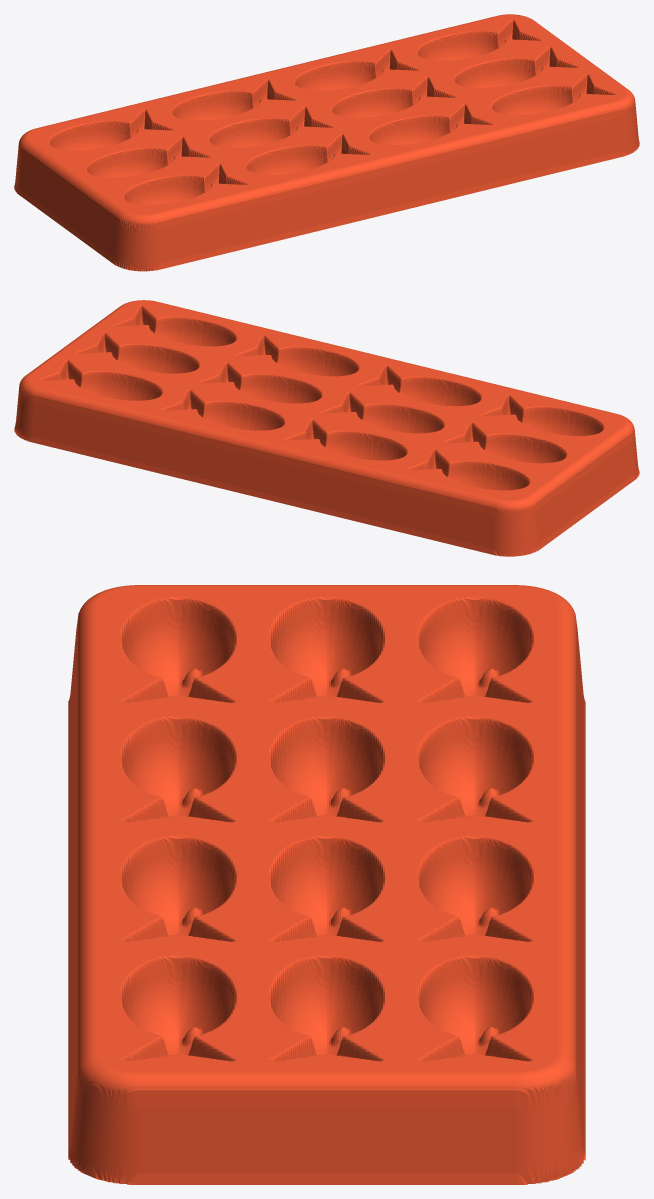
Rendered from mold.glb.
3 views of the same model, one above another, from view 1: azimuth 30°, elevation 25°; view 2: azimuth 150°, elevation 25°; view 3: azimuth 270°, elevation 25° (orthographic). The views are drawn at different scales.
Parts seen in each view (by area): view 1: geometry_0; view 2: geometry_0; view 3: geometry_0.
Boxes of the visible parts, bbox=[...] form: geometry_0: bbox=[14, 14, 639, 271]; geometry_0: bbox=[14, 300, 639, 556]; geometry_0: bbox=[68, 585, 585, 1184].
Size of the model in its own units: 0.1558 by 0.0145 by 0.067.
